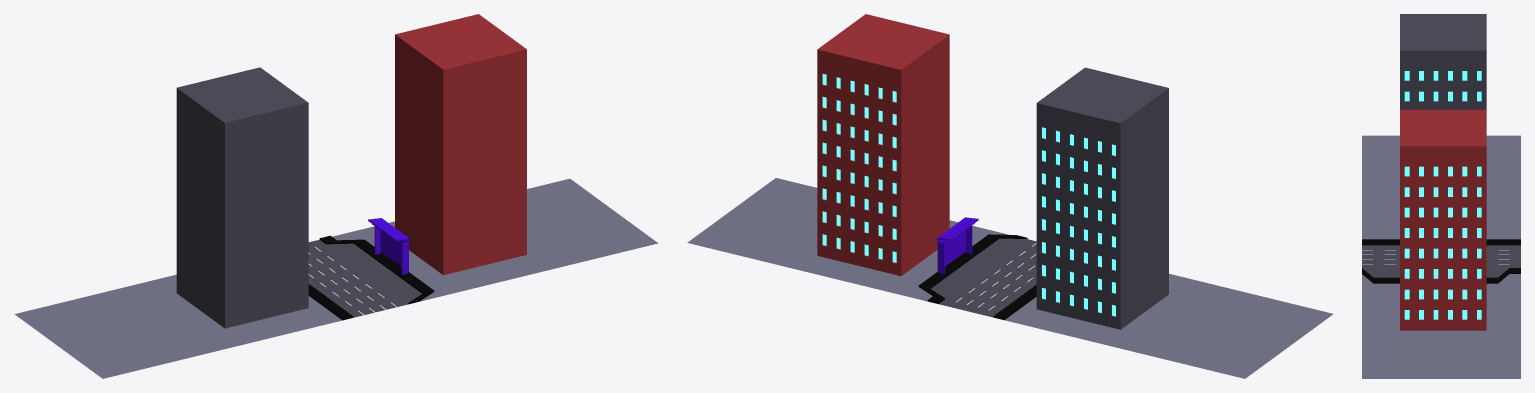
File: BusStop.fbx
The picture shows the model from 3 angles, left to right: view 1: azimuth 30°, elevation 25°; view 2: azimuth 150°, elevation 25°; view 3: azimuth 270°, elevation 25°; orthographic projection. The views are drawn at different scales.
Parts seen in each view (by area): view 1: Building.001, Building.002, Ground, Road, BusStop; view 2: Building.001, Building.002, Ground, Road, BusStop; view 3: Building.002, Ground, Building.001, Road.
Boxes of the visible parts, x1,y1,x2,y2 form: Building.001: (176, 67, 308, 328); Building.002: (395, 14, 526, 275); Ground: (14, 178, 658, 378); Road: (308, 235, 434, 320); BusStop: (368, 218, 409, 274); Building.001: (1036, 67, 1168, 329); Building.002: (817, 14, 949, 275); Ground: (687, 178, 1333, 378); Road: (918, 234, 1036, 320); BusStop: (937, 217, 978, 274); Building.002: (1400, 109, 1486, 330); Ground: (1362, 135, 1520, 378); Building.001: (1400, 14, 1486, 109); Road: (1362, 239, 1520, 283).
Size of the model in its own units: 19151 by 6769 by 5285.
